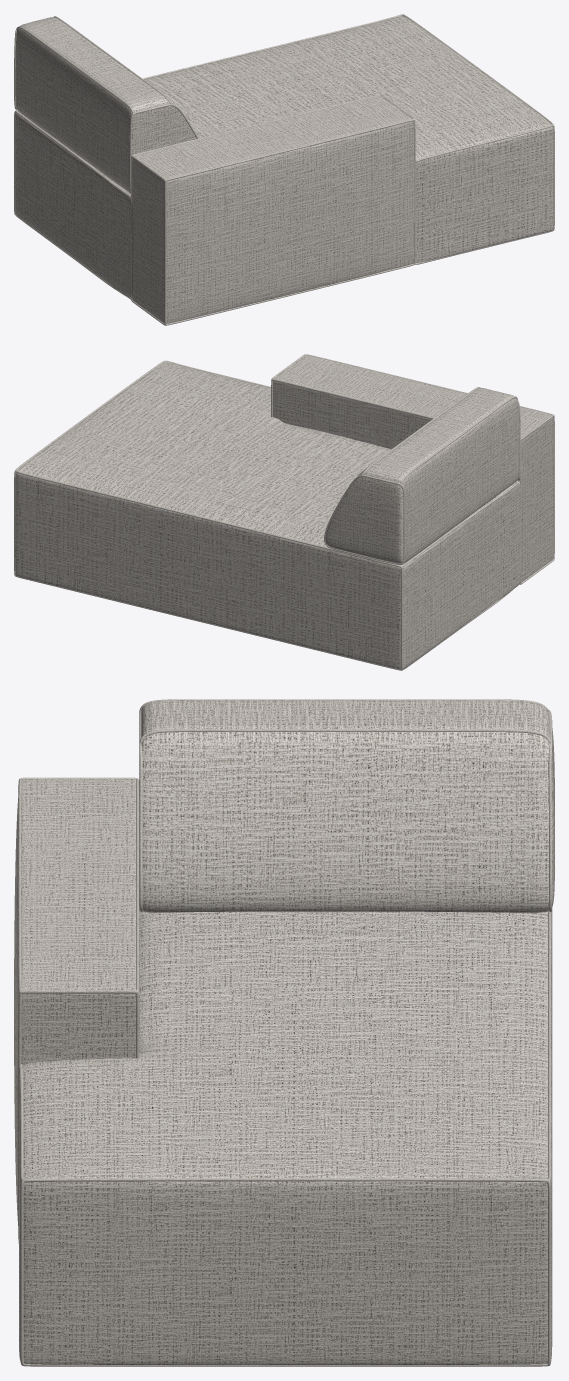
Rendered from longchair_right_130_alpine_gray.glb.
3 renders of one model, top to bottom at view 1: azimuth 30°, elevation 25°; view 2: azimuth 150°, elevation 25°; view 3: azimuth 270°, elevation 25°, orthographic. The views are drawn at different scales.
Visible parts, largest first — view 1: Box095, Box088, Box077, Shape048, Shape044, Shape035; view 2: Box095, Box077, Box088, Shape044, Shape048, Shape035; view 3: Box095, Box077, Box088, Shape044, Shape035, Shape048.
Boxes of the visible parts, <box> form: Box095: <box>14,15,553,298</box>; Box088: <box>132,95,414,323</box>; Box077: <box>15,17,196,193</box>; Shape048: <box>131,94,415,325</box>; Shape044: <box>15,14,554,299</box>; Shape035: <box>14,16,198,193</box>; Box095: <box>15,361,522,669</box>; Box077: <box>325,387,519,563</box>; Box088: <box>273,355,553,582</box>; Shape044: <box>14,360,510,670</box>; Shape048: <box>271,354,554,584</box>; Shape035: <box>324,387,520,564</box>; Box095: <box>19,910,552,1364</box>; Box077: <box>141,700,554,912</box>; Box088: <box>14,779,135,1225</box>; Shape044: <box>19,911,551,1366</box>; Shape035: <box>139,699,552,912</box>; Shape048: <box>18,777,139,1243</box>.
Size of the model in its own units: 1.75 by 0.8369 by 1.19.
2 materials, 2 textured.
